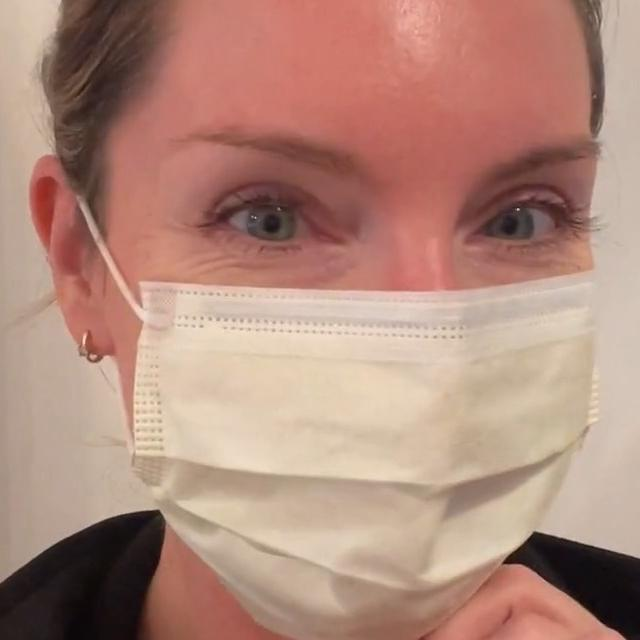Mask: (78, 142, 587, 640)
Person: (0, 0, 640, 640)
